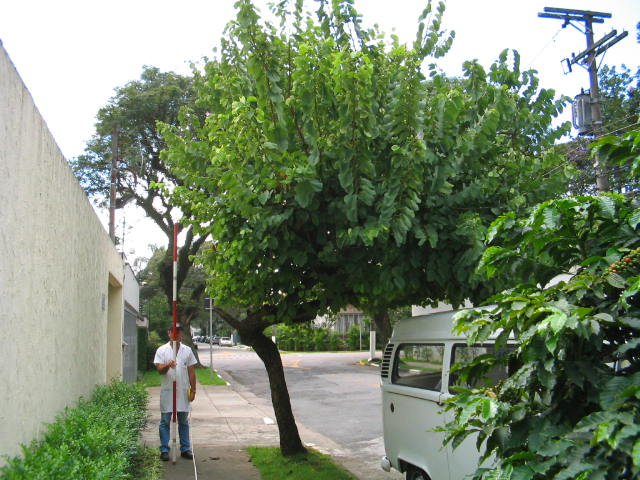crown: (159, 1, 565, 304)
stem: (239, 306, 327, 457)
stick: (164, 225, 184, 466)
tree: (156, 1, 567, 455)
